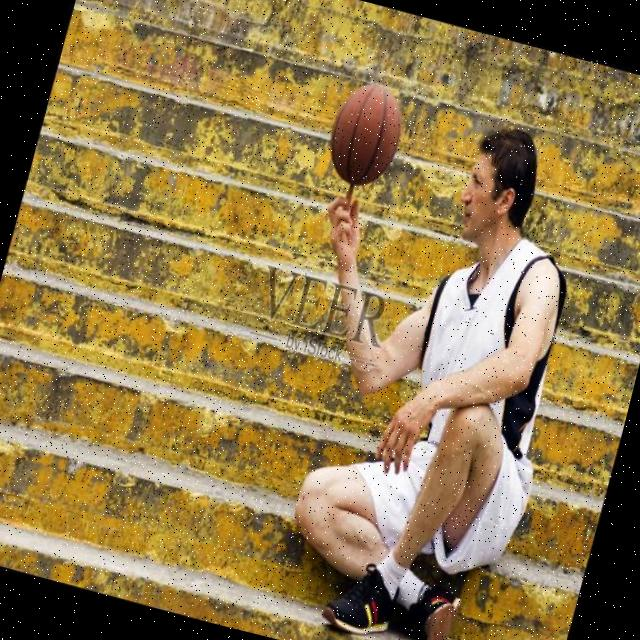ball: (320, 77, 411, 192)
